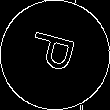P_E: (26, 30, 84, 80)
